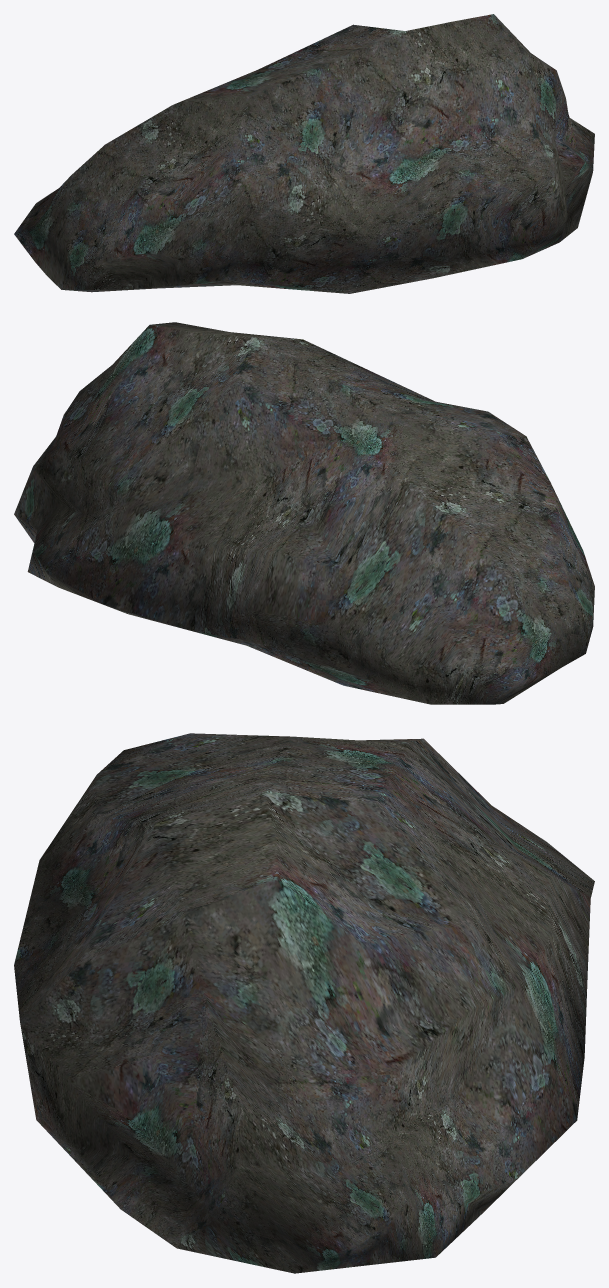
Rendered from rock_forestriverrock_med_l0.fbx.
3 renders of one model, top to bottom at view 1: azimuth 30°, elevation 25°; view 2: azimuth 150°, elevation 25°; view 3: azimuth 270°, elevation 25°, orthographic. The views are drawn at different scales.
Visible parts, largest first — view 1: mesh_node; view 2: mesh_node; view 3: mesh_node.
Boxes of the visible parts, x1,y1,x2,y2 form: mesh_node: [14, 14, 594, 293]; mesh_node: [14, 322, 594, 704]; mesh_node: [14, 733, 594, 1273].
Bounding box in the file's own units: 1.71 × 0.7127 × 1.04.
1 material, 1 textured.
